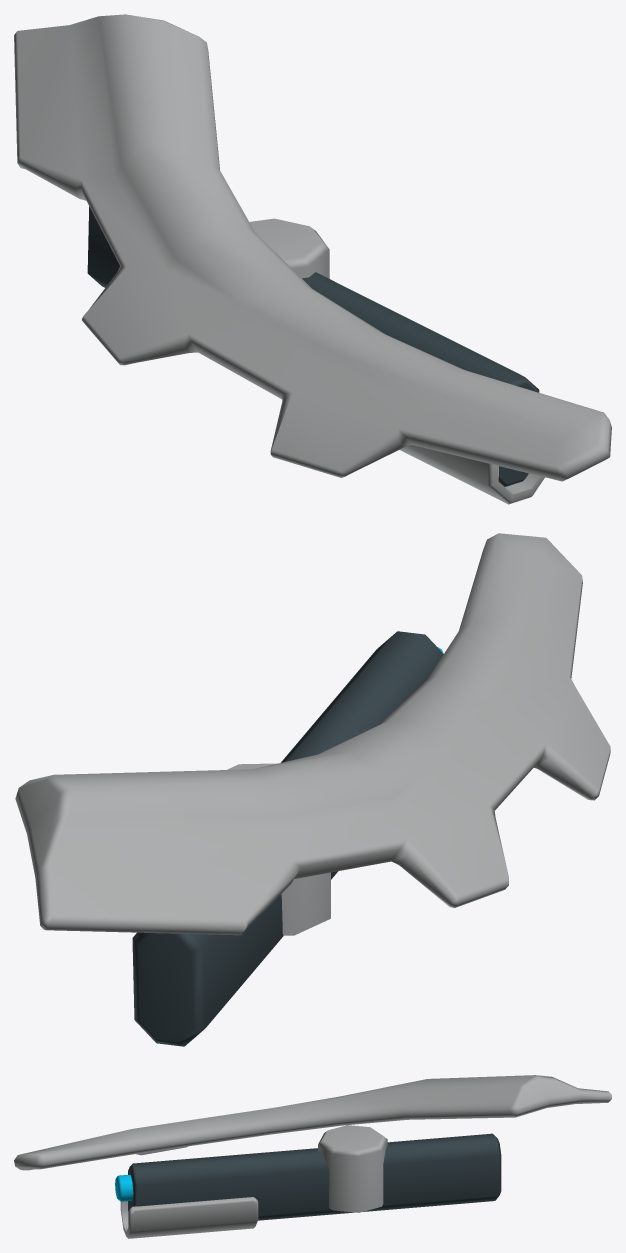
The model's file is Drone_006_wing_002.fbx.
3 renders of one model, top to bottom at view 1: azimuth 30°, elevation 25°; view 2: azimuth 150°, elevation 25°; view 3: azimuth 270°, elevation 25°, orthographic. The views are drawn at different scales.
Parts seen in each view (by area): view 1: Drone_006_wing_002; view 2: Drone_006_wing_002; view 3: Drone_006_wing_002.
Boxes of the visible parts, left/top/right/bottom form: Drone_006_wing_002: left=14, top=14, right=611, bottom=504; Drone_006_wing_002: left=15, top=533, right=610, bottom=1046; Drone_006_wing_002: left=14, top=1075, right=611, bottom=1238.
Size of the model in its own units: 18.59 by 58.79 by 15.83.
